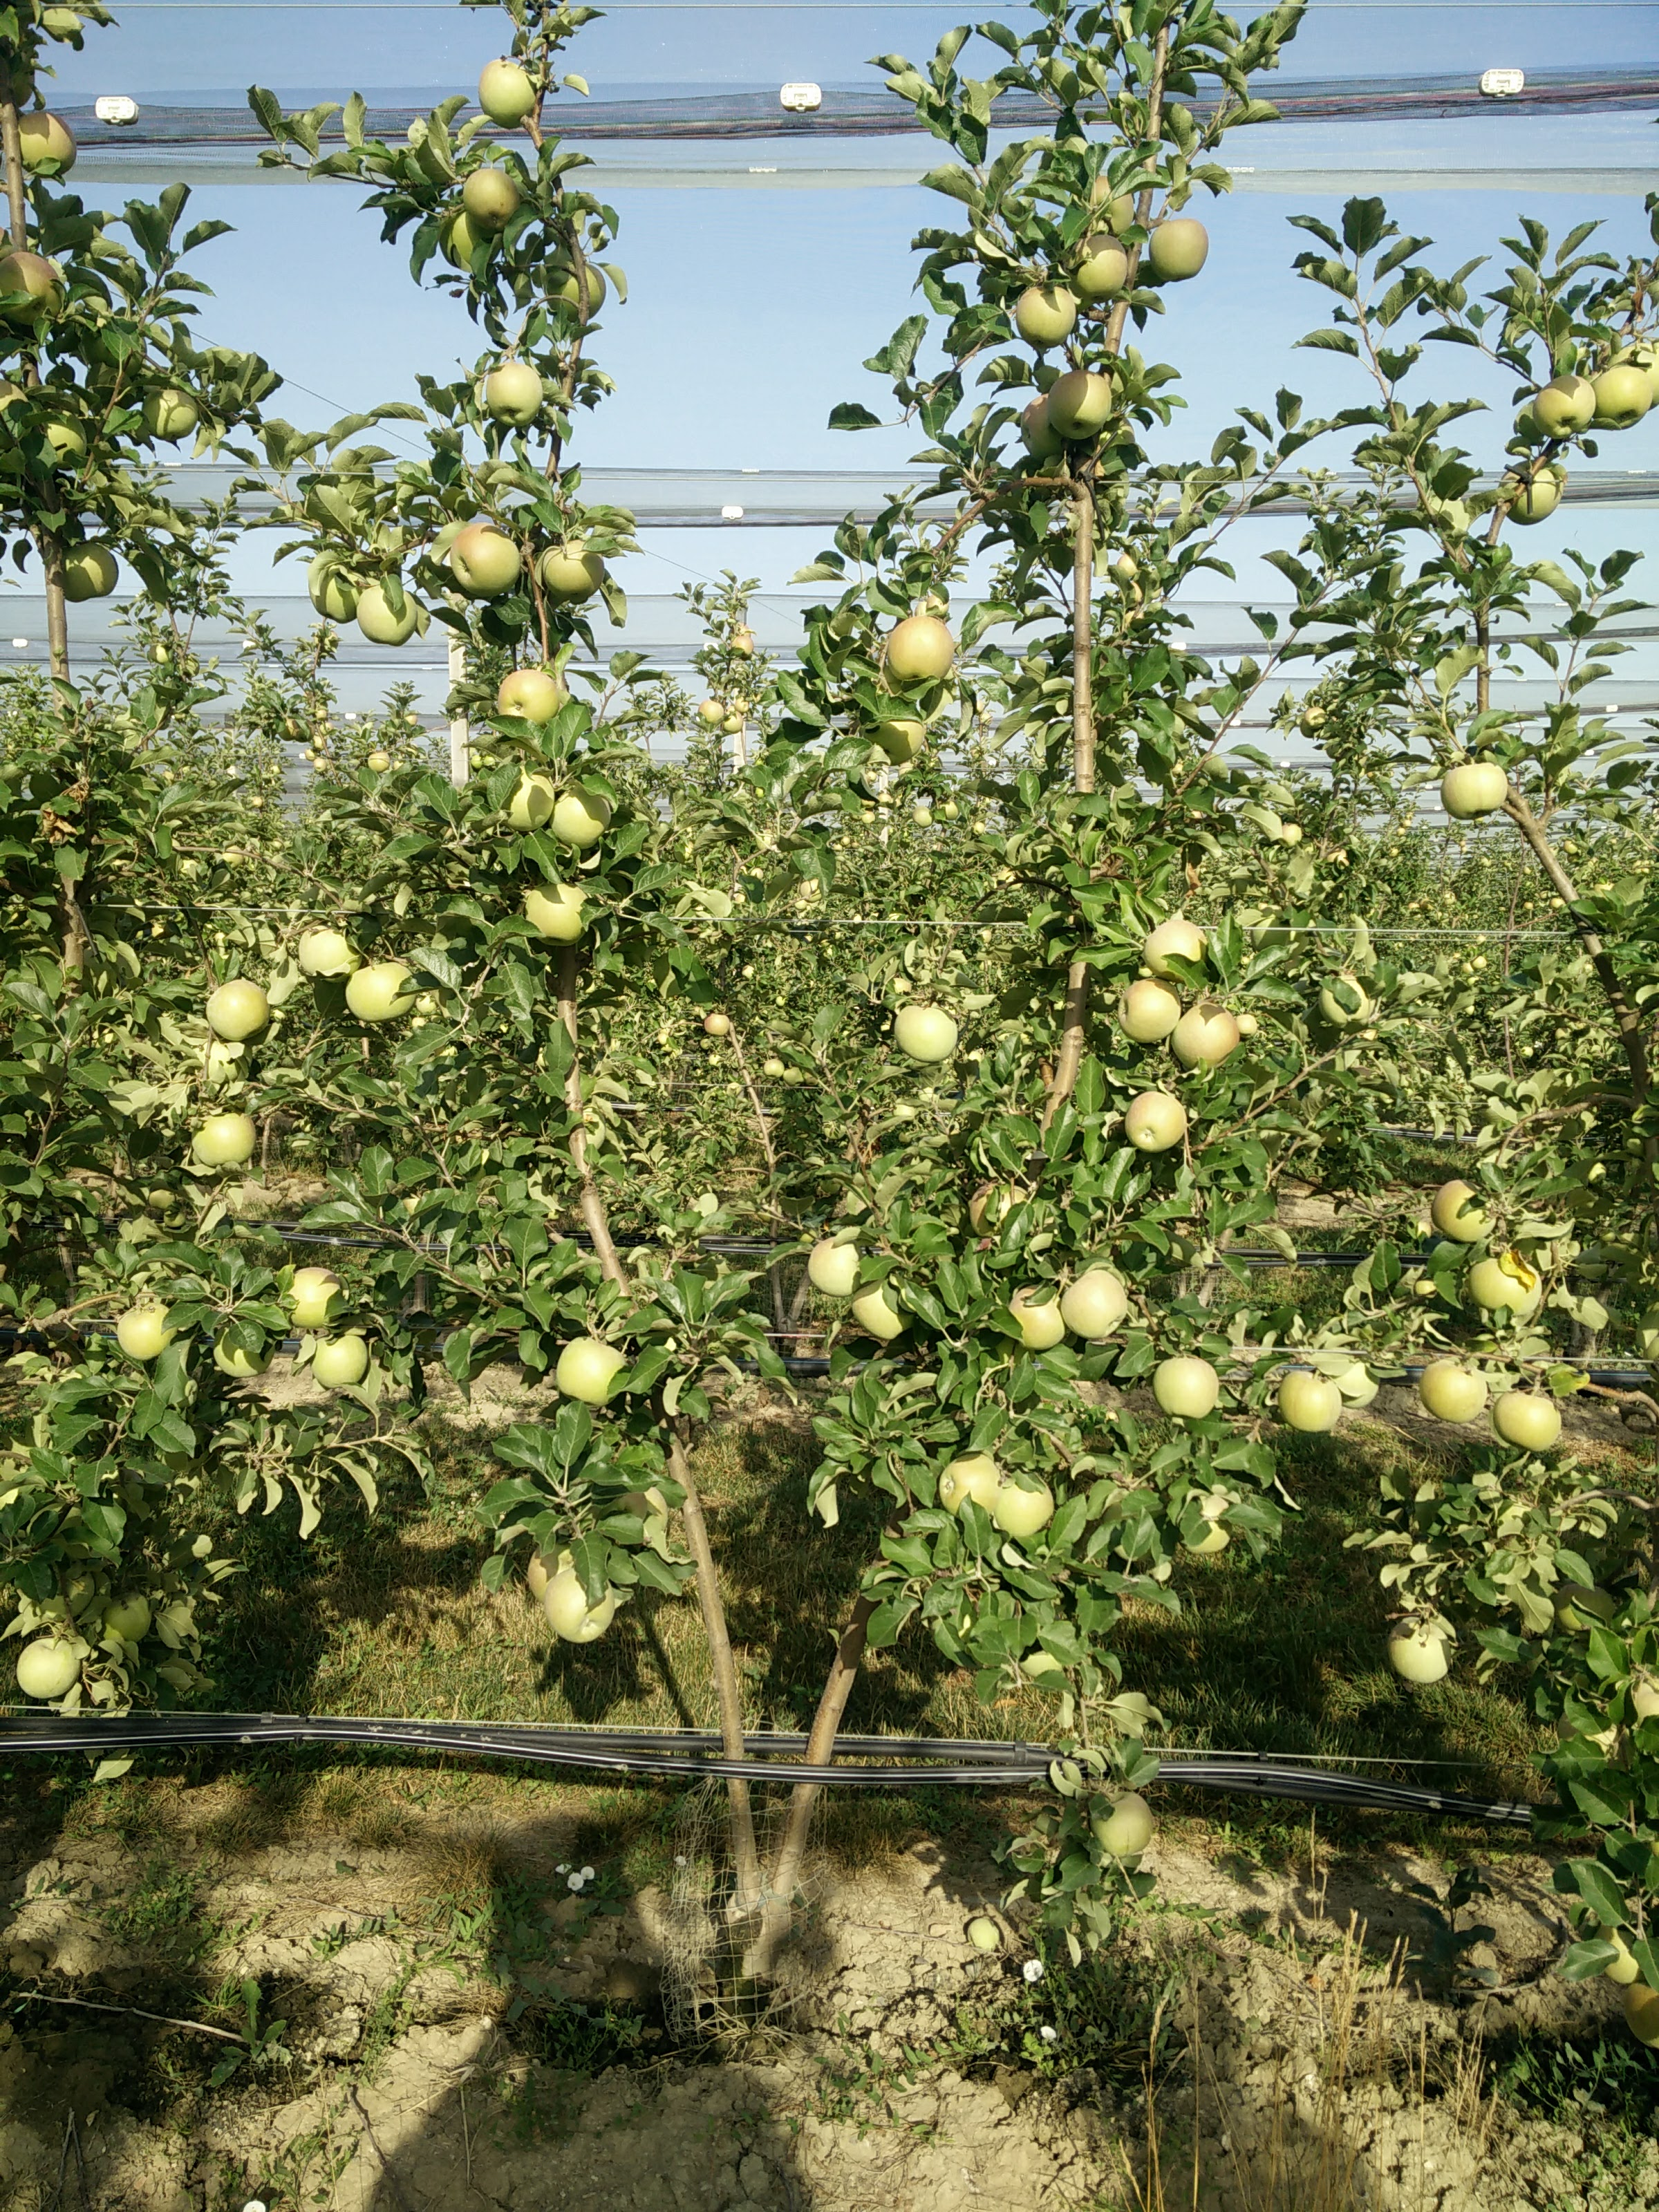apple: (1061, 1262, 1128, 1346), (1489, 1386, 1566, 1459), (1171, 994, 1240, 1072), (1388, 1611, 1463, 1684), (519, 877, 592, 948), (447, 520, 518, 592), (1150, 1355, 1224, 1425), (541, 1569, 612, 1641), (1109, 974, 1183, 1042), (1087, 1790, 1156, 1859), (1004, 1282, 1076, 1349), (888, 617, 957, 684), (1, 252, 71, 320), (1275, 1369, 1347, 1435), (553, 1340, 624, 1405), (542, 538, 609, 610), (938, 1452, 1001, 1525), (1420, 1360, 1494, 1421), (1588, 360, 1650, 431), (1048, 373, 1113, 440), (549, 785, 616, 852), (1501, 458, 1569, 524), (15, 1639, 82, 1704), (542, 254, 607, 323), (1013, 279, 1076, 344), (305, 555, 371, 620), (807, 1233, 869, 1300), (15, 110, 79, 178), (1180, 1487, 1242, 1555), (345, 961, 414, 1022), (475, 55, 536, 126), (191, 1110, 257, 1171), (281, 1262, 341, 1329), (993, 1474, 1053, 1543), (1440, 761, 1509, 820), (200, 982, 271, 1042), (295, 925, 361, 985), (892, 1003, 962, 1061), (1124, 1091, 1188, 1155), (850, 1275, 910, 1340), (484, 360, 545, 422), (1536, 375, 1593, 441), (1067, 238, 1127, 297), (358, 587, 418, 646), (310, 1328, 366, 1391), (456, 163, 515, 222), (1147, 216, 1205, 275), (497, 668, 556, 725), (57, 544, 119, 597), (115, 1306, 174, 1360), (493, 768, 550, 824), (138, 387, 194, 442)
